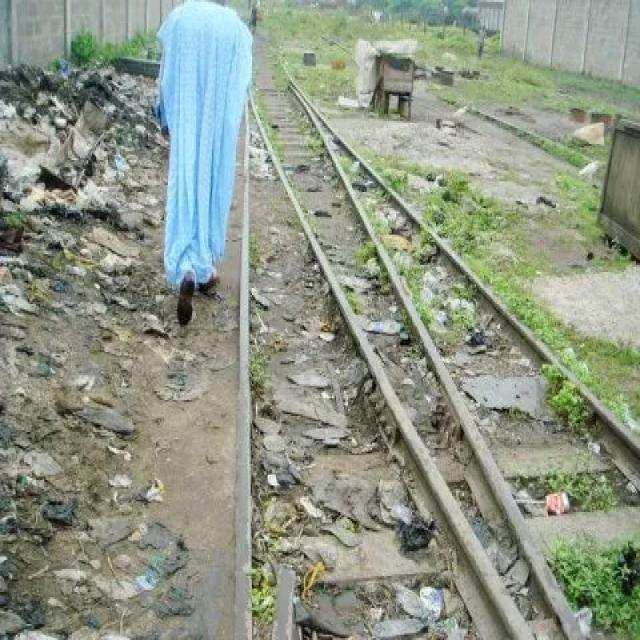people: (154, 3, 254, 325)
